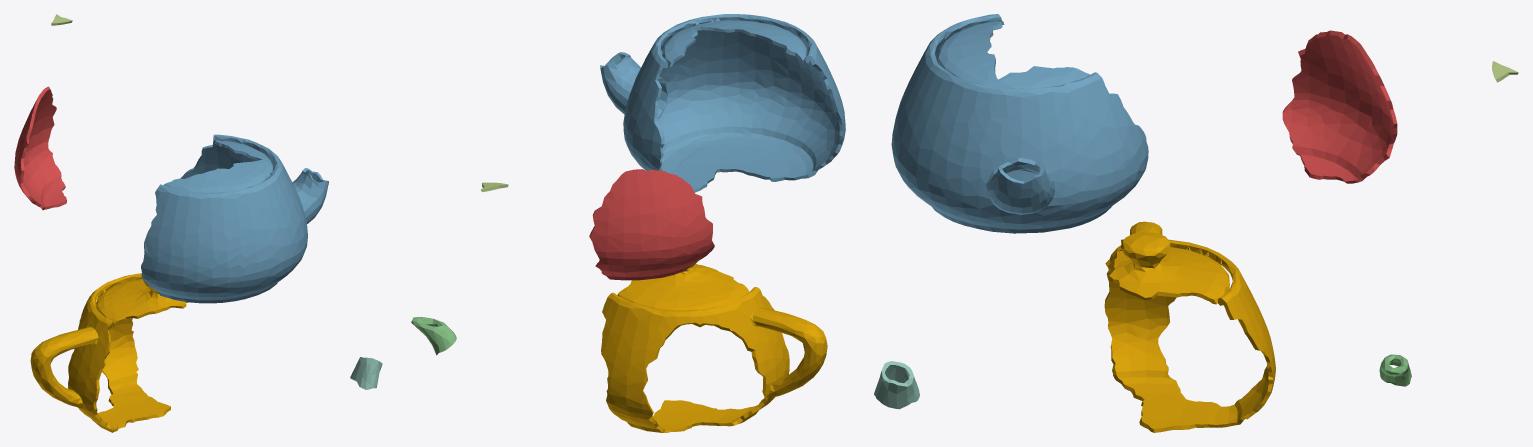
The model's file is fractured_52_6pcs_transformed.glb.
The picture shows the model from 3 angles, left to right: view 1: azimuth 30°, elevation 25°; view 2: azimuth 150°, elevation 25°; view 3: azimuth 270°, elevation 25°; orthographic projection. The views are drawn at different scales.
Parts seen in each view (by area): view 1: piece_2.obj, piece_0.obj, piece_1.obj, piece_4.obj; view 2: piece_2.obj, piece_0.obj, piece_1.obj, piece_3.obj; view 3: piece_2.obj, piece_0.obj, piece_1.obj, piece_4.obj, piece_3.obj.
Boxes of the visible parts, x1,y1,x2,y2 form: piece_2.obj: [141, 134, 328, 303]; piece_0.obj: [30, 273, 188, 432]; piece_1.obj: [14, 86, 66, 210]; piece_4.obj: [350, 357, 382, 389]; piece_2.obj: [600, 14, 845, 192]; piece_0.obj: [601, 261, 827, 432]; piece_1.obj: [589, 169, 714, 280]; piece_3.obj: [411, 317, 456, 355]; piece_2.obj: [891, 14, 1148, 233]; piece_0.obj: [1104, 221, 1275, 432]; piece_1.obj: [1282, 30, 1397, 183]; piece_4.obj: [874, 361, 919, 409]; piece_3.obj: [1379, 354, 1411, 386].
Bounding box in the file's own units: 1 × 1.01 × 1.55.
